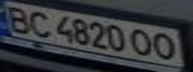0: (106, 23, 130, 53)
2: (87, 19, 109, 51)
4: (51, 12, 75, 43)
8: (69, 16, 90, 47)
B: (3, 3, 33, 34)
C: (24, 8, 54, 38)
O: (148, 30, 181, 61), (127, 27, 157, 57)
